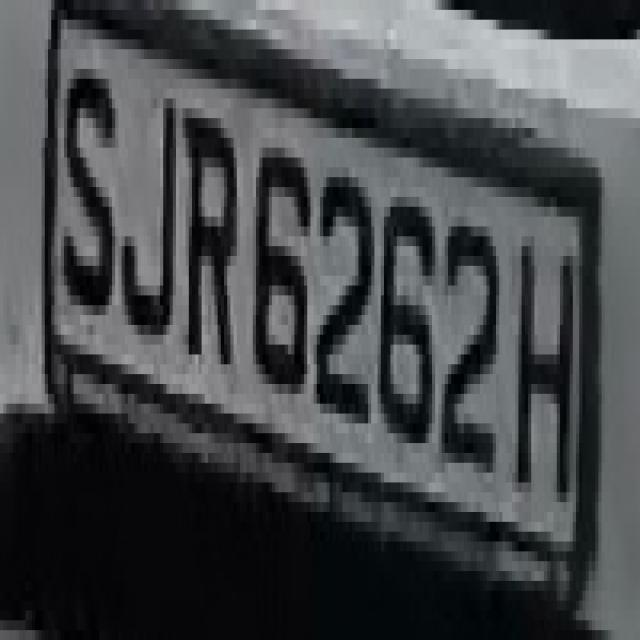2: (304, 118, 374, 463), (438, 187, 499, 502)
6: (250, 99, 310, 404), (381, 157, 435, 453)
H: (512, 197, 579, 541)
J: (118, 29, 192, 364)
R: (179, 79, 240, 404)
S: (55, 39, 122, 315)
